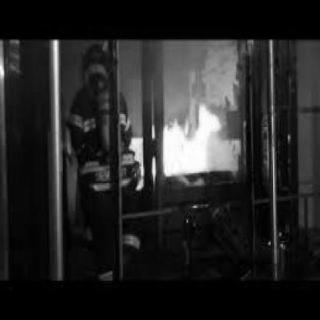Fire: (162, 98, 218, 174), (153, 154, 156, 180)
